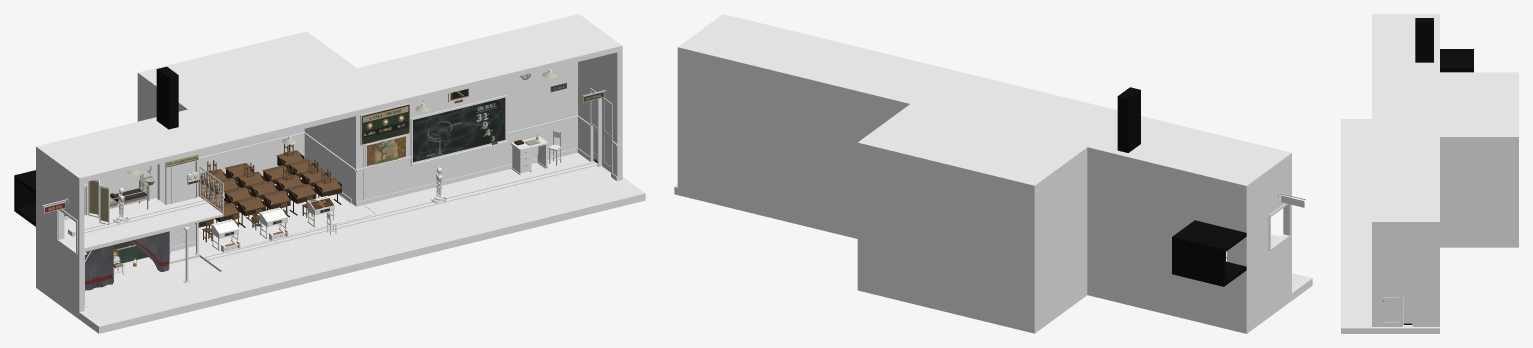
3 views of the same model, side by side, from view 1: azimuth 30°, elevation 25°; view 2: azimuth 150°, elevation 25°; view 3: azimuth 270°, elevation 25° (orthographic). The views are drawn at different scales.
Parts seen in each view (by area): view 1: Att15Set, Att15Rows, Att15Hide, Att15Drawing, Att15Lift, Att15LiftGate, Att15Door; view 2: Att15Set; view 3: Att15Set, Att15Door, Att15Flap.
Part boxes in pixels (x1,y1,x2,y2): Att15Set: (14,14,645,333); Att15Rows: (198,143,342,242); Att15Hide: (85,231,169,290); Att15Drawing: (365,135,406,167); Att15Lift: (165,161,223,224); Att15LiftGate: (199,166,224,213); Att15Door: (602,99,610,172); Att15Set: (674,14,1312,333); Att15Set: (1341,14,1518,333); Att15Door: (1381,271,1402,326); Att15Flap: (1403,297,1412,324).
Bounding box in the file's own units: 16.73 × 5.4 × 5.75.
Materials: 21 (2 with a texture image).
